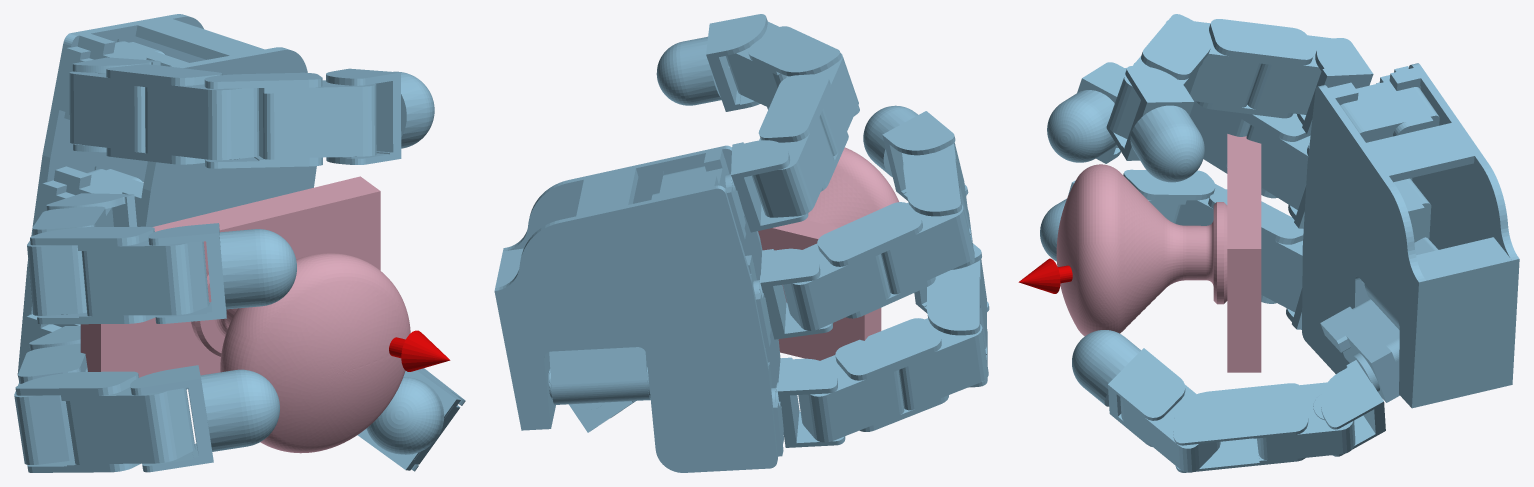
3 renders of one model, left to right at view 1: azimuth 30°, elevation 25°; view 2: azimuth 150°, elevation 25°; view 3: azimuth 270°, elevation 25°, orthographic. The views are drawn at different scales.
Visible parts, largest first — view 1: world, door_knob.stl; view 2: world, door_knob.stl; view 3: world, door_knob.stl.
Boxes of the visible parts, x1,y1,x2,y2 form: world: (14, 14, 465, 472); door_knob.stl: (80, 176, 410, 453); world: (494, 14, 989, 472); door_knob.stl: (758, 147, 898, 360); world: (1018, 14, 1519, 472); door_knob.stl: (1056, 134, 1261, 372).
Bounding box in the file's own units: 0.1571 × 0.1512 × 0.1837.
